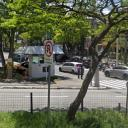NoVirarU: (45, 40, 53, 58)
